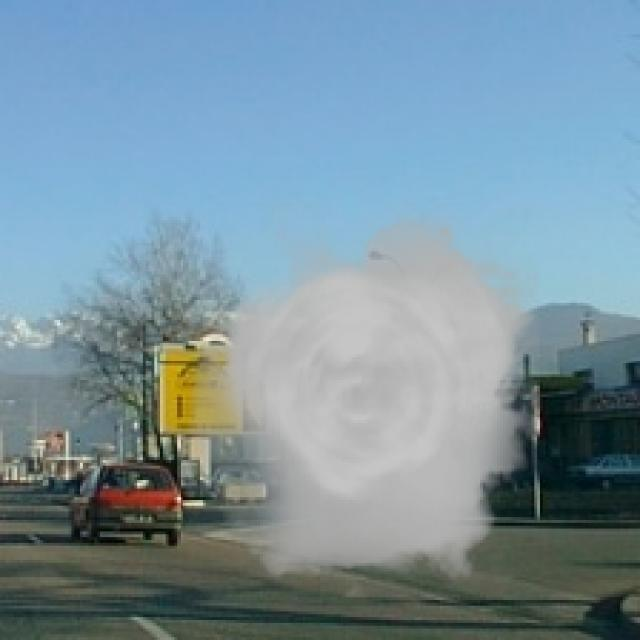Smoke: (188, 202, 540, 598)
